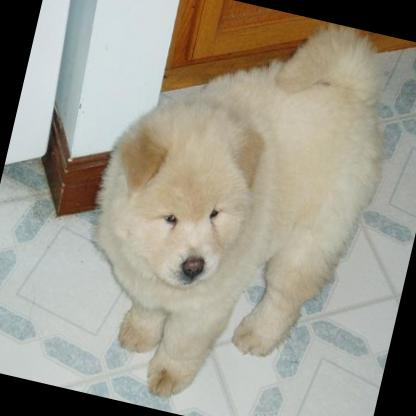chow: (53, 0, 413, 416)
